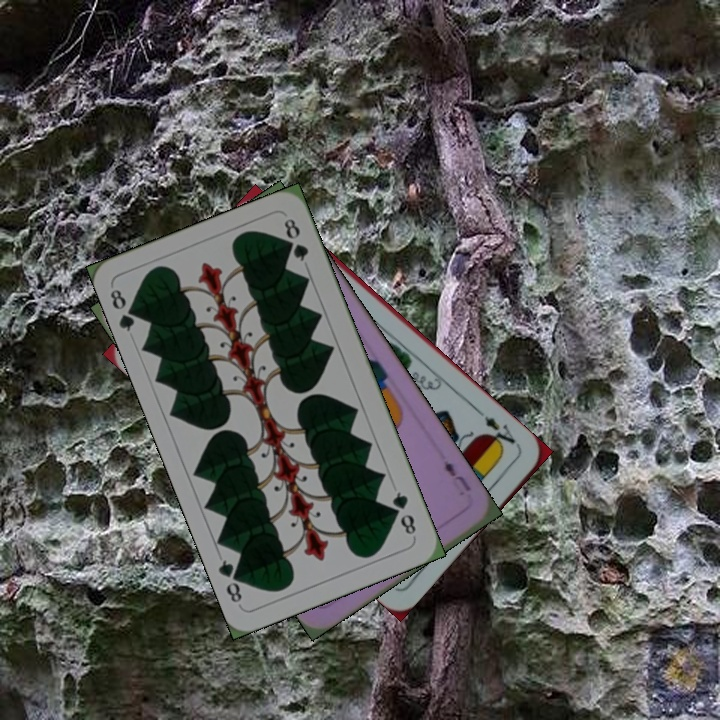EA: (474, 406, 518, 453)
EU: (439, 456, 474, 495)
G8: (106, 285, 143, 335), (388, 487, 419, 540)
